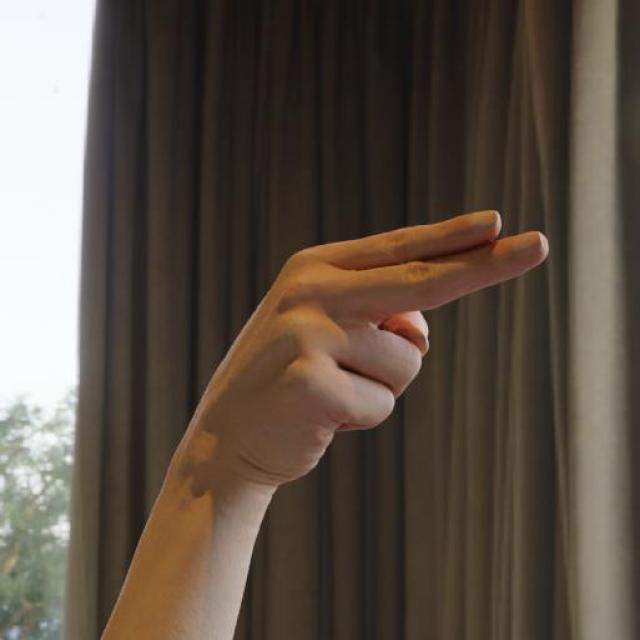H: (177, 207, 552, 489)
